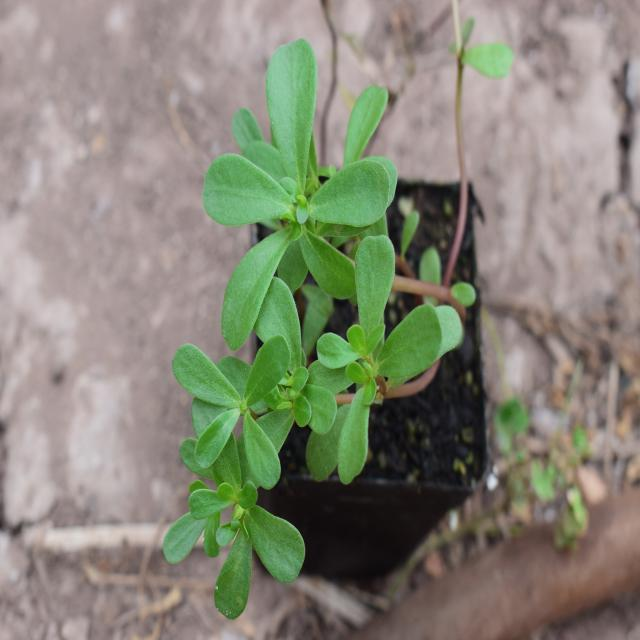purslane: (140, 18, 474, 622)
